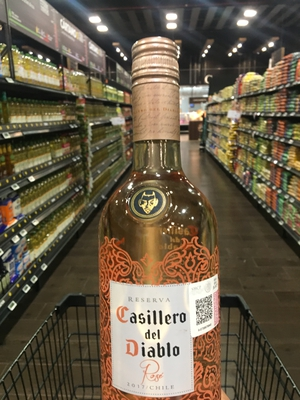casillero del diablo rose: (88, 37, 237, 400)
